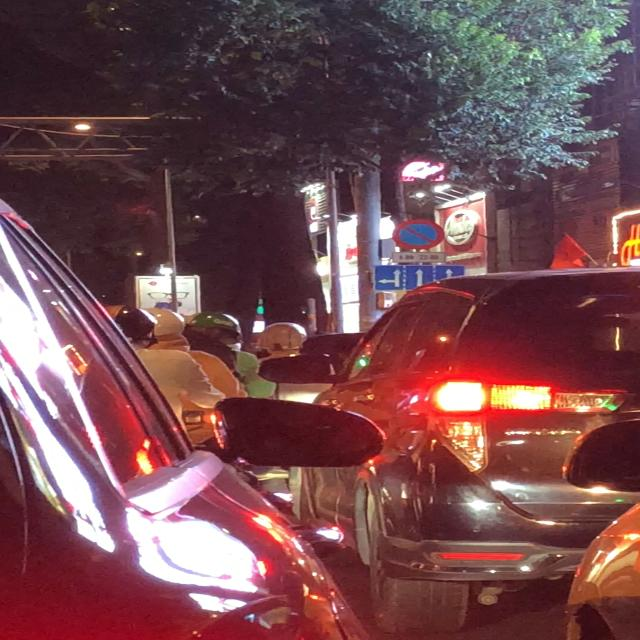Bien bao cam do xe: (391, 218, 446, 252)
